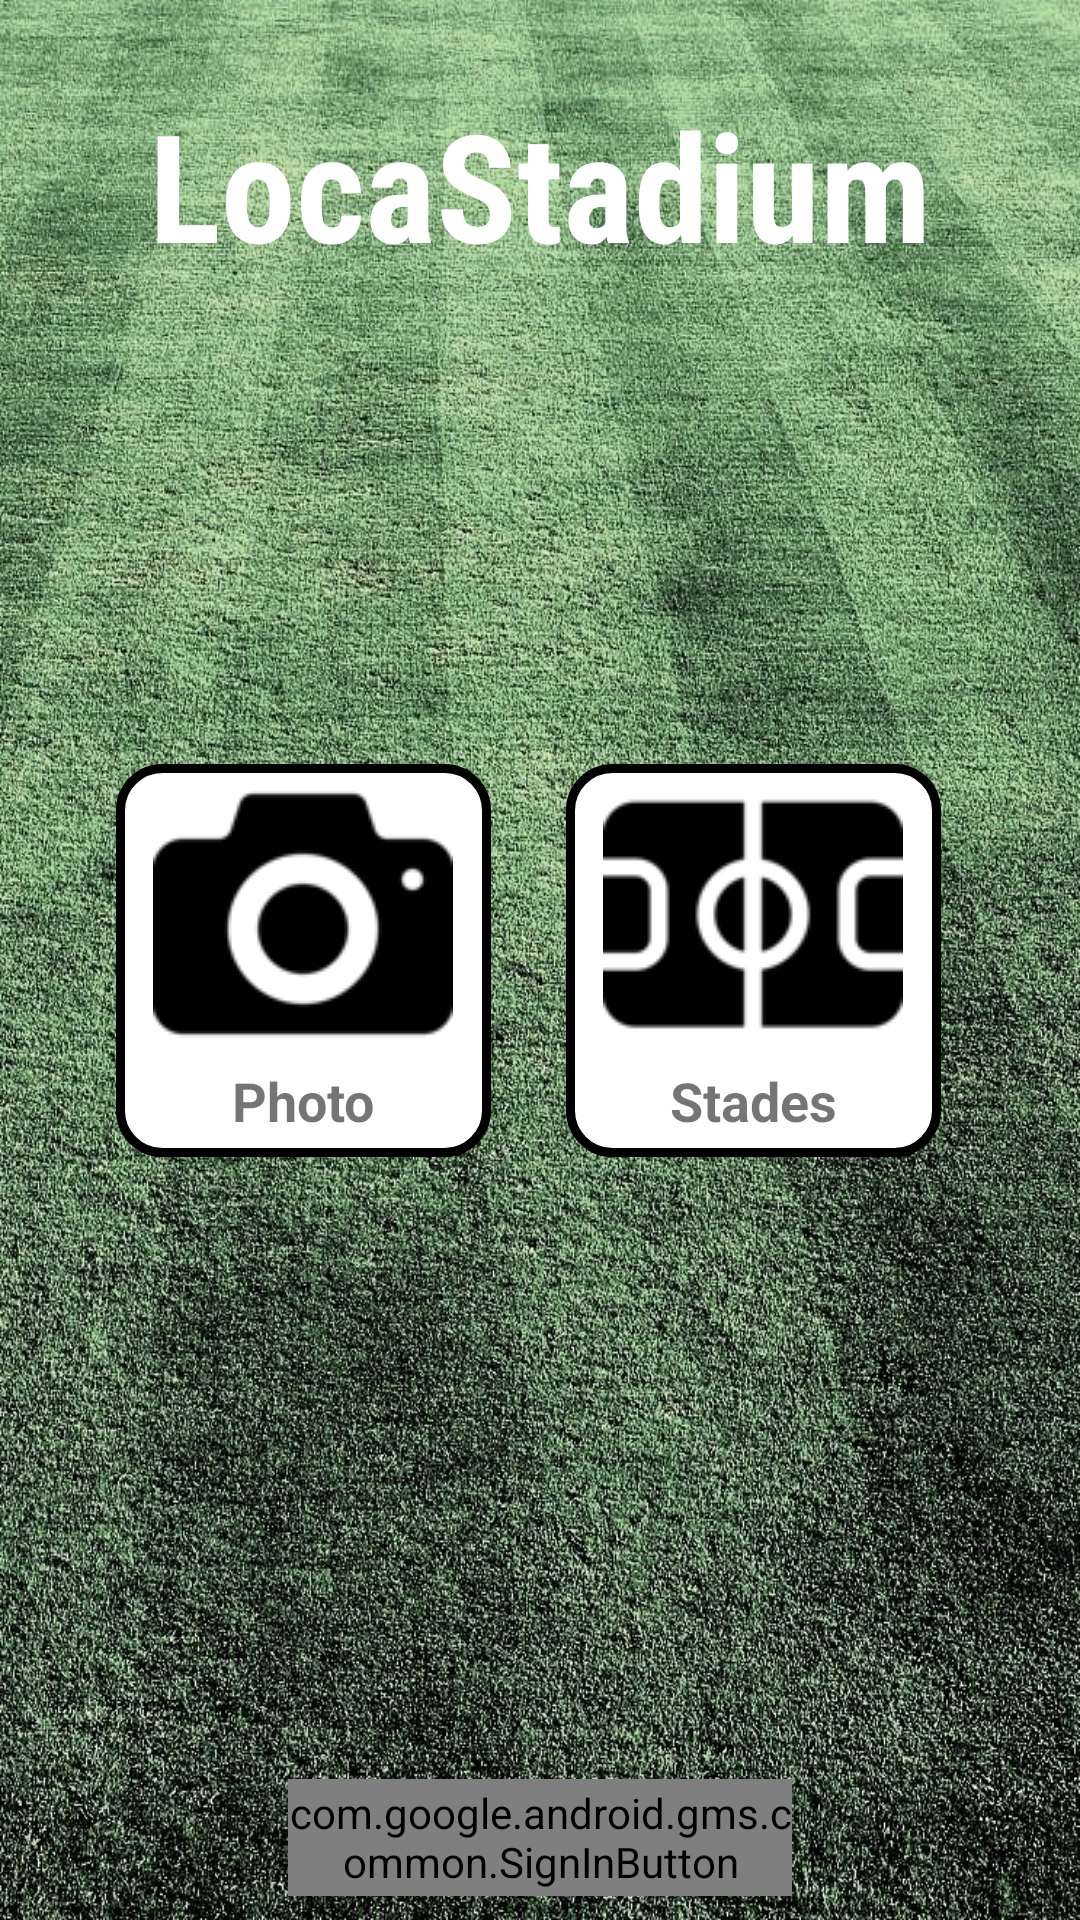

Icon click points for this 1080w x 1920h phone screenshot, format (x,y):
field: (753,914)
